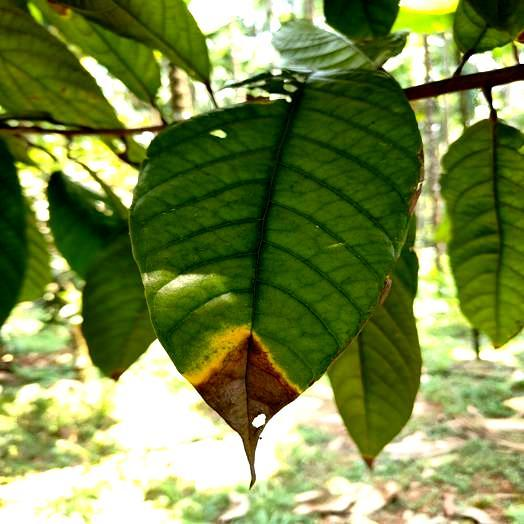Potassium: (130, 72, 421, 462)
